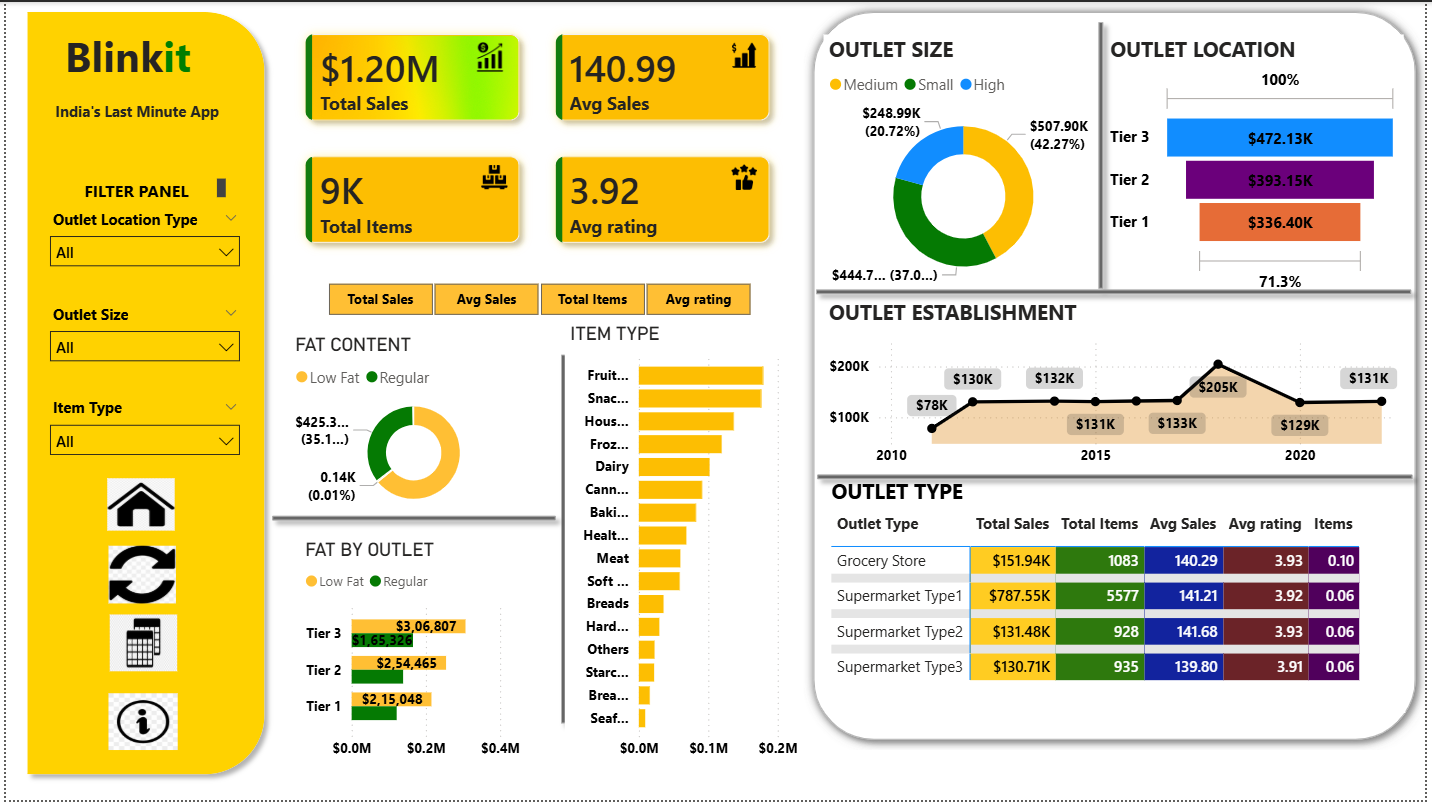

Layout of this report page (visuals, bound fields, positions):
{"tool":"powerbi","page":{"name":"Main Dashboard","canvas":[1280,720],"ordinal":0},"visuals":[{"type":"shape","box":[9.6,0,231.9,705.3],"z":0},{"type":"textbox","box":[39.8,17.8,141.3,67.2],"z":1000},{"type":"textbox","box":[39.8,85.1,163.3,27.4],"z":2000},{"type":"cardVisual","fields":{"Data":["BlinkIT Grocery Data.Total Sales","BlinkIT Grocery Data.Avg Sales","BlinkIT Grocery Data.Total Items","BlinkIT Grocery Data.Avg rating"]},"box":[241.3,0,477.7,246.3],"z":3000},{"type":"shape","box":[491.4,308.5,23.6,350.8],"z":4000},{"type":"slicer","fields":{"Values":["Parameter.Parameter"]},"box":[265,246.3,430.4,42.3],"z":5000},{"type":"donutChart","title":"FAT CONTENT","fields":{"Y":["BlinkIT Grocery Data.Total Sales","BlinkIT Grocery Data.Avg Sales","BlinkIT Grocery Data.Total Items","BlinkIT Grocery Data.Avg rating"],"Category":["BlinkIT Grocery Data.Item Fat Content"]},"box":[256.3,298.6,223.9,166.7],"z":6000},{"type":"clusteredBarChart","title":"FAT BY OUTLET","fields":{"Y":["BlinkIT Grocery Data.Total Sales"],"Category":["BlinkIT Grocery Data.Outlet Location Type","BlinkIT Grocery Data.Item Fat Content"],"Series":["BlinkIT Grocery Data.Item Fat Content"]},"box":[265,483.9,226.4,207.7],"z":7000},{"type":"barChart","title":"ITEM TYPE","fields":{"Y":["BlinkIT Grocery Data.Total Sales","BlinkIT Grocery Data.Avg Sales","BlinkIT Grocery Data.Total Items","BlinkIT Grocery Data.Avg rating"],"Category":["BlinkIT Grocery Data.Item Type"]},"box":[503.8,288.6,215.2,403],"z":8000},{"type":"shape","box":[231.4,454,273.7,22.4],"z":9000},{"type":"shape","box":[719,0,561,674.2],"z":10000},{"type":"donutChart","title":"OUTLET SIZE","fields":{"Category":["BlinkIT Grocery Data.Outlet Size"],"Y":["BlinkIT Grocery Data.Total Sales"]},"box":[737.7,29.9,252.5,237.6],"z":11000},{"type":"funnel","title":"OUTLET LOCATION","fields":{"Category":["BlinkIT Grocery Data.Outlet Location Type"],"Y":["BlinkIT Grocery Data.Total Sales"]},"box":[990.2,29.9,269.9,237.6],"z":12000},{"type":"lineChart","title":"OUTLET ESTABLISHMENT","fields":{"Y":["BlinkIT Grocery Data.Total Sales"],"Category":["BlinkIT Grocery Data.Outlet Establishment Year"]},"box":[737.7,267.5,522.5,160.5],"z":13000},{"type":"pivotTable","title":"OUTLET TYPE","fields":{"Rows":["BlinkIT Grocery Data.Outlet Type"],"Values":["BlinkIT Grocery Data.Total Sales","BlinkIT Grocery Data.Total Items","BlinkIT Grocery Data.Avg Sales","BlinkIT Grocery Data.Avg rating","Avg(BlinkIT Grocery Data.Item Visibility)"]},"box":[738.9,427.9,522.5,212.7],"z":14000},{"type":"shape","box":[976.5,8.7,22.4,258.7],"z":15000},{"type":"shape","box":[721.5,250,554.8,22.4],"z":16000},{"type":"shape","box":[722.7,416.7,554.8,22.4],"z":17000},{"type":"slicer","fields":{"Values":["BlinkIT Grocery Data.Outlet Location Type"]},"box":[29.9,181.6,191.6,79.6],"z":18000},{"type":"slicer","fields":{"Values":["BlinkIT Grocery Data.Outlet Size"]},"box":[29.9,267.5,191.6,79.6],"z":19000},{"type":"slicer","fields":{"Values":["BlinkIT Grocery Data.Item Type"]},"box":[29.9,352,191.6,79.6],"z":20000},{"type":"textbox","box":[41.1,154.3,163,27.4],"z":21000},{"type":"actionButton","box":[90.8,429.2,61,47.3],"z":22000},{"type":"actionButton","box":[92.1,490.1,61,52.2],"z":23000},{"type":"actionButton","box":[93.3,552.3,61,51],"z":24000},{"type":"actionButton","box":[92.1,623.2,62.2,51],"z":25000}]}

Visuals, with their boxes in screenshot pixels (x1, y1, x2, y2), scaled from the page's 1280x720 canvas onto the 1432x805 screenshot:
shape: rect(11, 0, 270, 789)
textbox: rect(45, 20, 203, 95)
textbox: rect(45, 95, 227, 126)
cardVisual - BlinkIT Grocery Data.Total Sales x BlinkIT Grocery Data.Avg Sales: rect(270, 0, 804, 275)
shape: rect(550, 345, 576, 737)
slicer - Parameter.Parameter: rect(296, 275, 778, 323)
"FAT CONTENT" donutChart: rect(287, 334, 537, 520)
"FAT BY OUTLET" clusteredBarChart: rect(296, 541, 550, 773)
"ITEM TYPE" barChart: rect(564, 323, 804, 773)
shape: rect(259, 508, 565, 533)
shape: rect(804, 0, 1431, 754)
"OUTLET SIZE" donutChart: rect(825, 33, 1108, 299)
"OUTLET LOCATION" funnel: rect(1108, 33, 1410, 299)
"OUTLET ESTABLISHMENT" lineChart: rect(825, 299, 1410, 479)
"OUTLET TYPE" pivotTable: rect(827, 478, 1411, 716)
shape: rect(1092, 10, 1118, 299)
shape: rect(807, 280, 1428, 305)
shape: rect(809, 466, 1429, 491)
slicer - BlinkIT Grocery Data.Outlet Location Type: rect(33, 203, 248, 292)
slicer - BlinkIT Grocery Data.Outlet Size: rect(33, 299, 248, 388)
slicer - BlinkIT Grocery Data.Item Type: rect(33, 394, 248, 483)
textbox: rect(46, 173, 228, 203)
actionButton: rect(102, 480, 170, 533)
actionButton: rect(103, 548, 171, 606)
actionButton: rect(104, 618, 173, 675)
actionButton: rect(103, 697, 173, 754)
